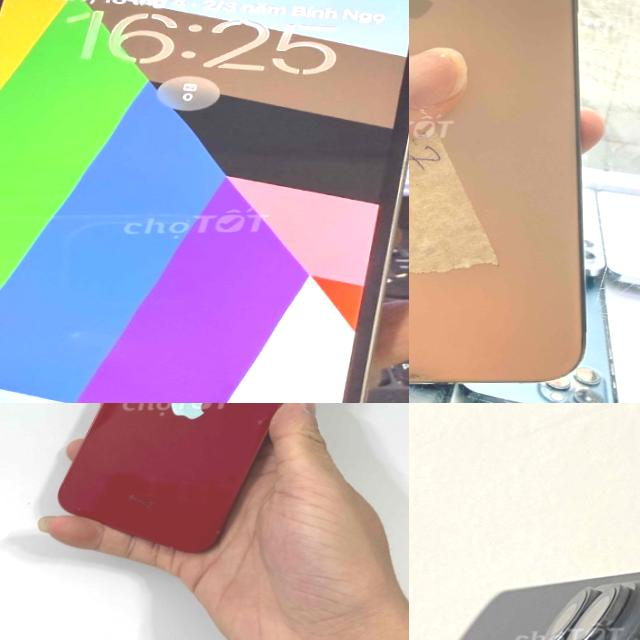scratch: (409, 366, 442, 389)
